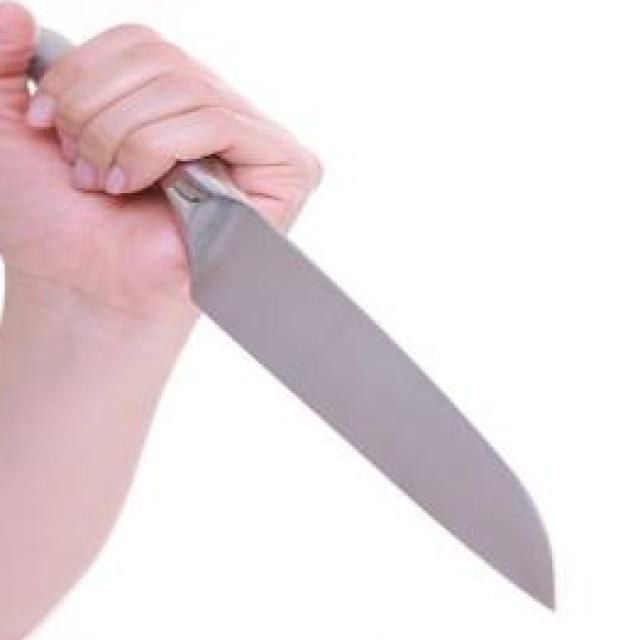knife: (15, 24, 564, 612)
